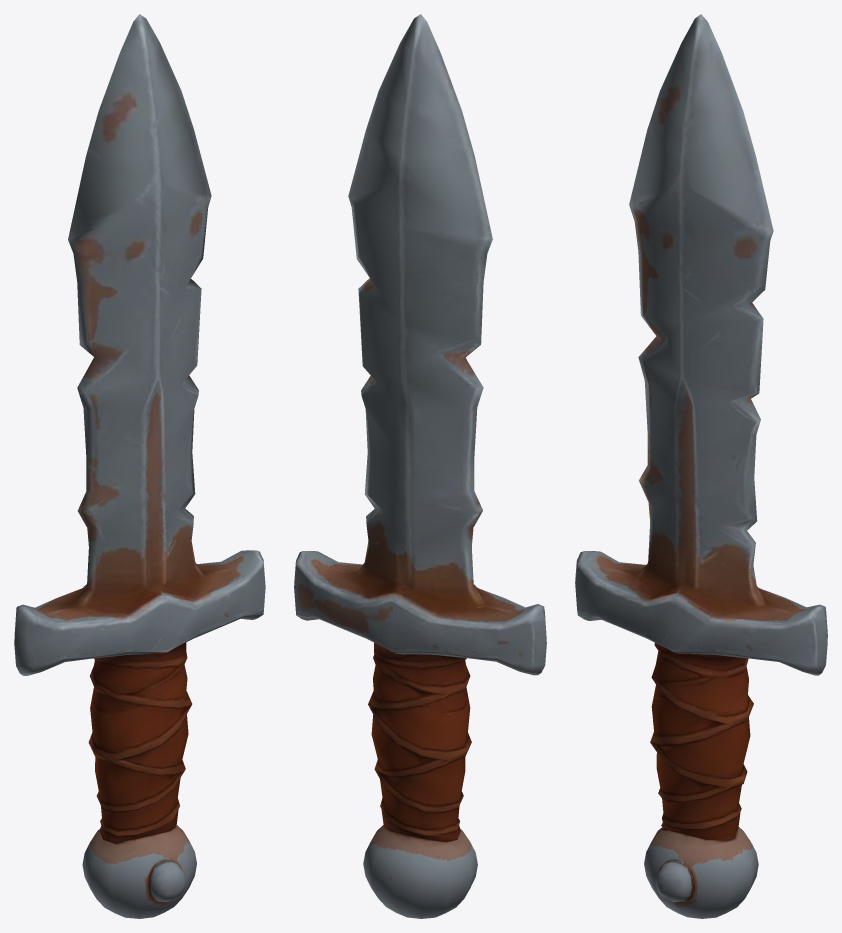
Rendered from dagger_rare_a_teal.glb.
3 renders of one model, left to right at view 1: azimuth 30°, elevation 25°; view 2: azimuth 150°, elevation 25°; view 3: azimuth 330°, elevation 25°, orthographic.
Parts seen in each view (by area): view 1: tripo_node_eaa65bd0-caa1-48e8-8055-d05c085c7c0a; view 2: tripo_node_eaa65bd0-caa1-48e8-8055-d05c085c7c0a; view 3: tripo_node_eaa65bd0-caa1-48e8-8055-d05c085c7c0a.
Part boxes in pixels (bbox=[...]): tripo_node_eaa65bd0-caa1-48e8-8055-d05c085c7c0a: bbox=[14, 14, 265, 918]; tripo_node_eaa65bd0-caa1-48e8-8055-d05c085c7c0a: bbox=[294, 14, 546, 918]; tripo_node_eaa65bd0-caa1-48e8-8055-d05c085c7c0a: bbox=[575, 14, 827, 918].
Size of the model in its own units: 0.3746 by 1.28 by 0.1619.
Materials: 1 (1 with a texture image).
